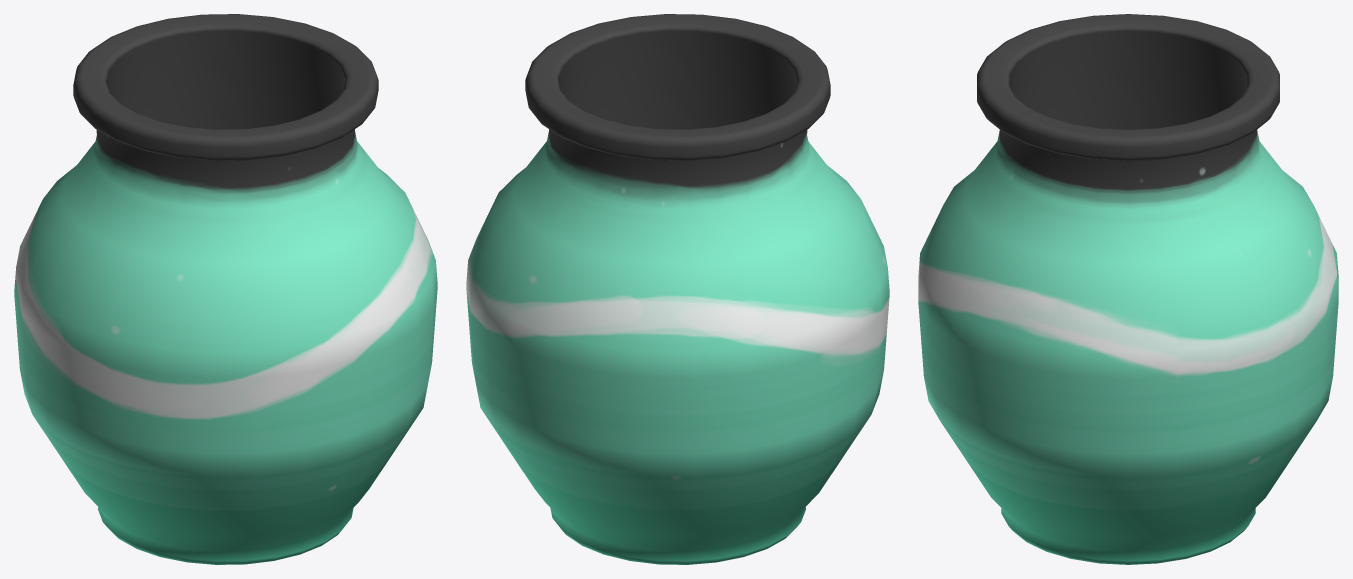
The model's file is Pot01.fbx.
3 renders of one model, left to right at view 1: azimuth 30°, elevation 25°; view 2: azimuth 150°, elevation 25°; view 3: azimuth 270°, elevation 25°, orthographic.
Parts seen in each view (by area): view 1: pCylinder1; view 2: pCylinder1; view 3: pCylinder1.
Boxes of the visible parts, <box> form: pCylinder1: <box>14,14,437,564</box>; pCylinder1: <box>466,14,889,564</box>; pCylinder1: <box>918,14,1338,564</box>.
Bounding box in the file's own units: 0.522 × 0.5966 × 0.5182.
